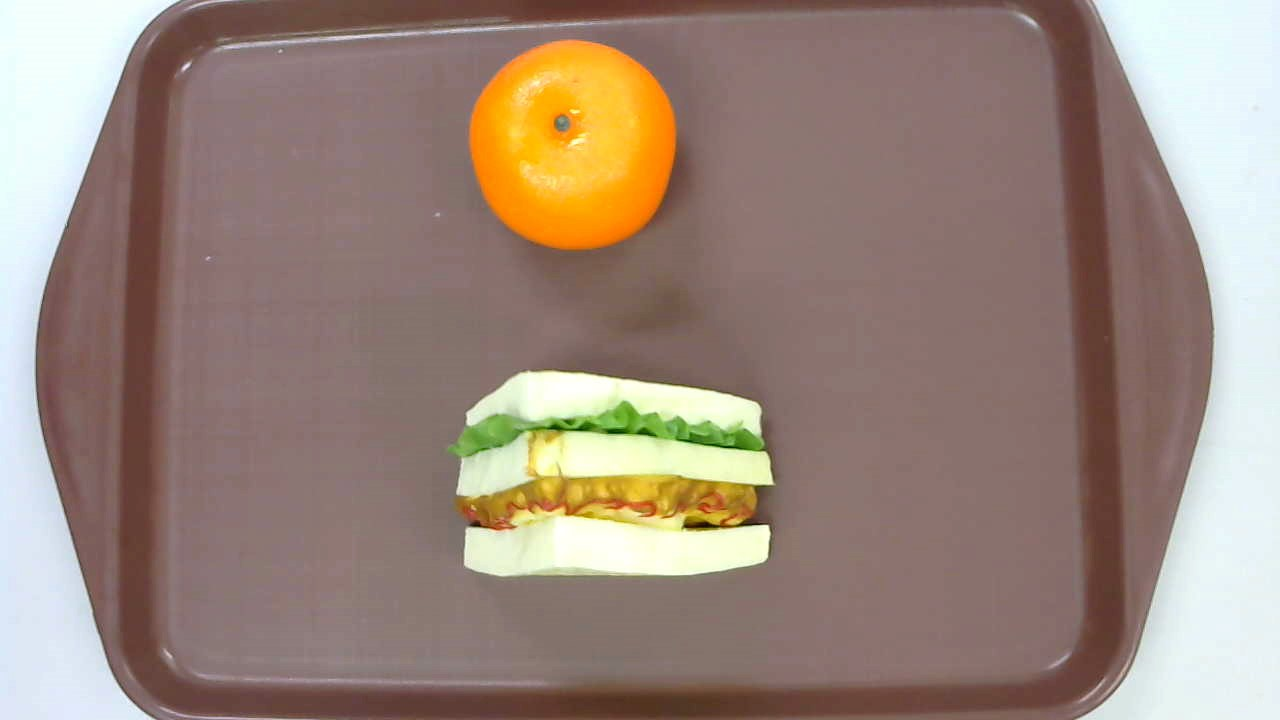orange: (467, 40, 677, 251)
sandwich: (446, 370, 777, 578)
